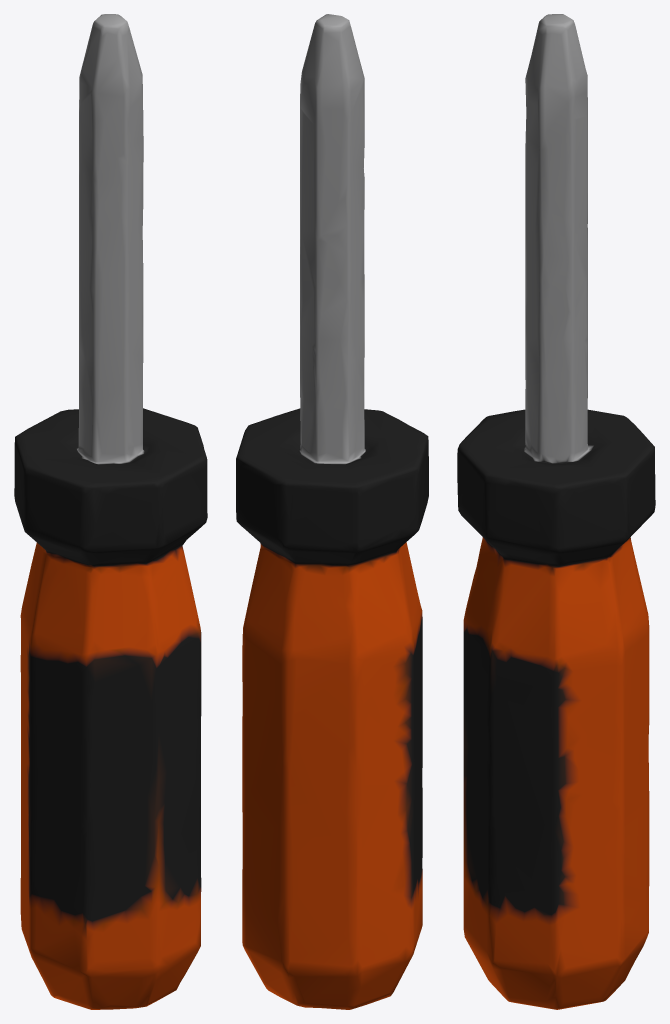
The model's file is gen3d-screwdriver-lod0.glb.
The picture shows the model from 3 angles, left to right: view 1: azimuth 30°, elevation 25°; view 2: azimuth 150°, elevation 25°; view 3: azimuth 270°, elevation 25°; orthographic projection.
Visible parts, largest first — view 1: part_0; view 2: part_0; view 3: part_0.
Part boxes in pixels (x1,y1,x2,y2): part_0: (14, 14, 207, 1009); part_0: (236, 14, 428, 1009); part_0: (457, 14, 655, 1009).
Bounding box in the file's own units: 0.1863 × 1 × 0.1864.
